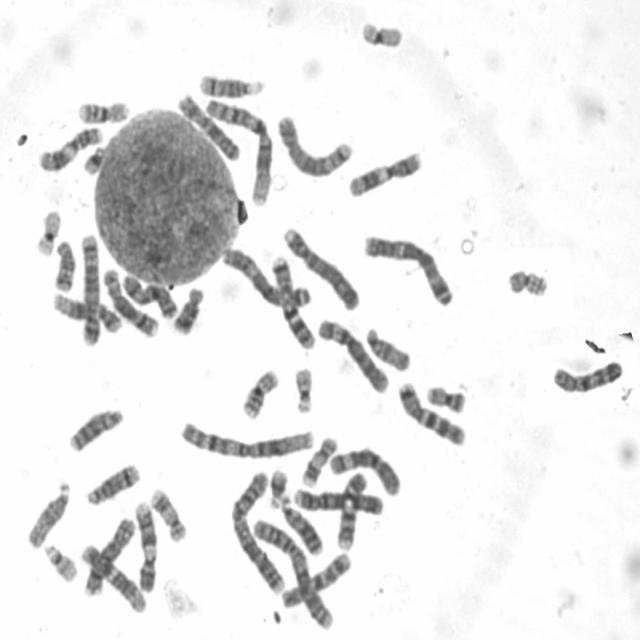A1: (200, 91, 275, 208), (175, 413, 317, 461)
A2: (247, 512, 337, 632), (225, 464, 288, 595)
A3: (358, 227, 456, 308), (217, 239, 313, 310)
B4: (279, 220, 362, 312), (289, 480, 385, 517)
B5: (272, 108, 356, 179), (76, 226, 102, 346)
C10: (276, 544, 355, 610), (548, 354, 626, 395)
C11: (344, 144, 426, 199), (33, 119, 104, 173)
C12: (76, 536, 149, 614), (47, 286, 124, 334)
C6: (313, 311, 391, 394), (324, 440, 403, 498)
C7: (264, 248, 318, 350), (393, 374, 468, 447)
C8: (80, 511, 138, 596), (98, 260, 160, 338)
C9: (332, 466, 369, 552), (130, 494, 160, 593)
D13: (274, 489, 325, 557), (63, 401, 125, 454)
D14: (81, 456, 142, 507), (193, 66, 266, 99)
D15: (21, 474, 72, 550), (361, 320, 413, 372)
E16: (236, 361, 281, 421), (72, 92, 132, 125)
E17: (145, 481, 188, 544), (297, 429, 340, 488)
E18: (167, 280, 207, 336), (48, 232, 78, 294)
F19: (356, 13, 406, 50), (30, 202, 63, 258)
F20: (502, 260, 550, 298), (421, 377, 468, 414)
G21: (264, 461, 290, 510), (78, 138, 108, 176)
G22: (39, 536, 79, 584), (288, 360, 316, 415)
X: (172, 86, 243, 162), (117, 266, 180, 321)
